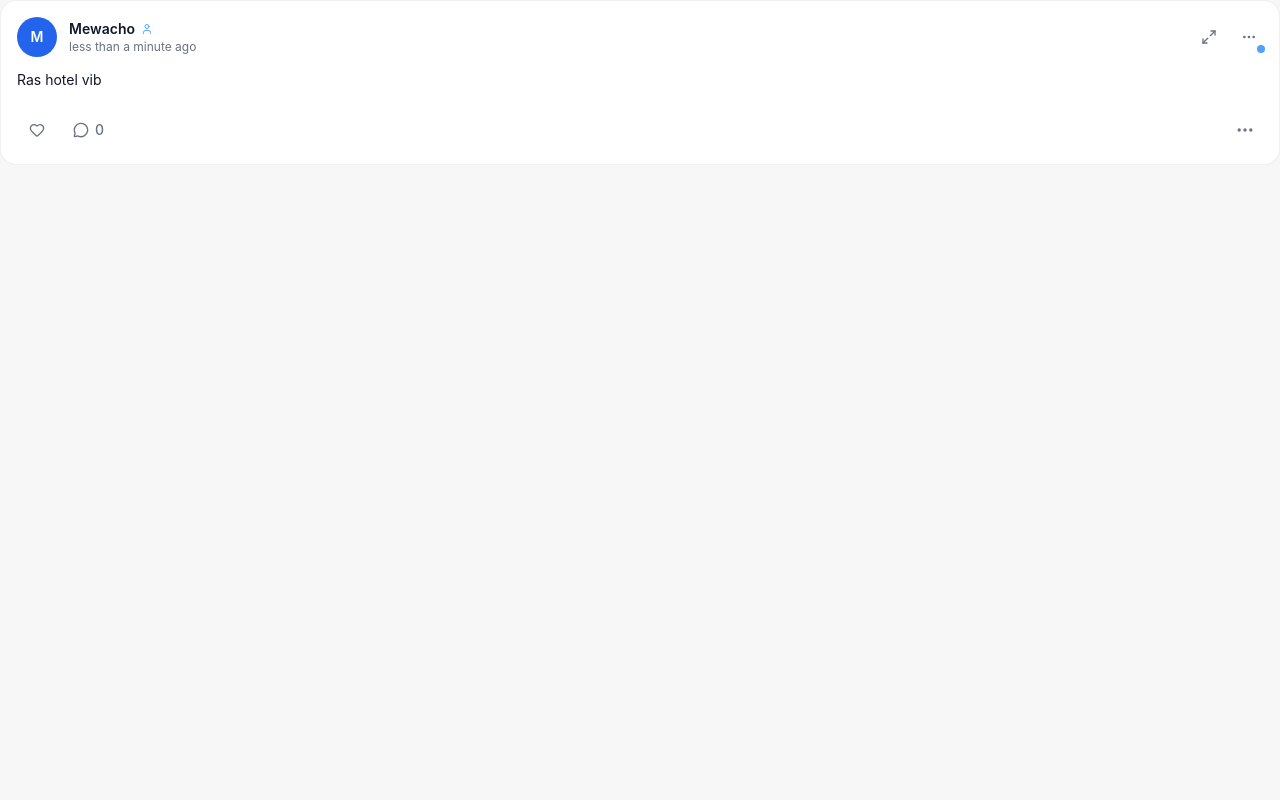
Scenario: PostCard owner actions › offers only Delete to an admin
This screenshot has width=1280, height=800.
Click the button named "More options for this post" at (1245, 130), box [1227, 108, 1263, 152]
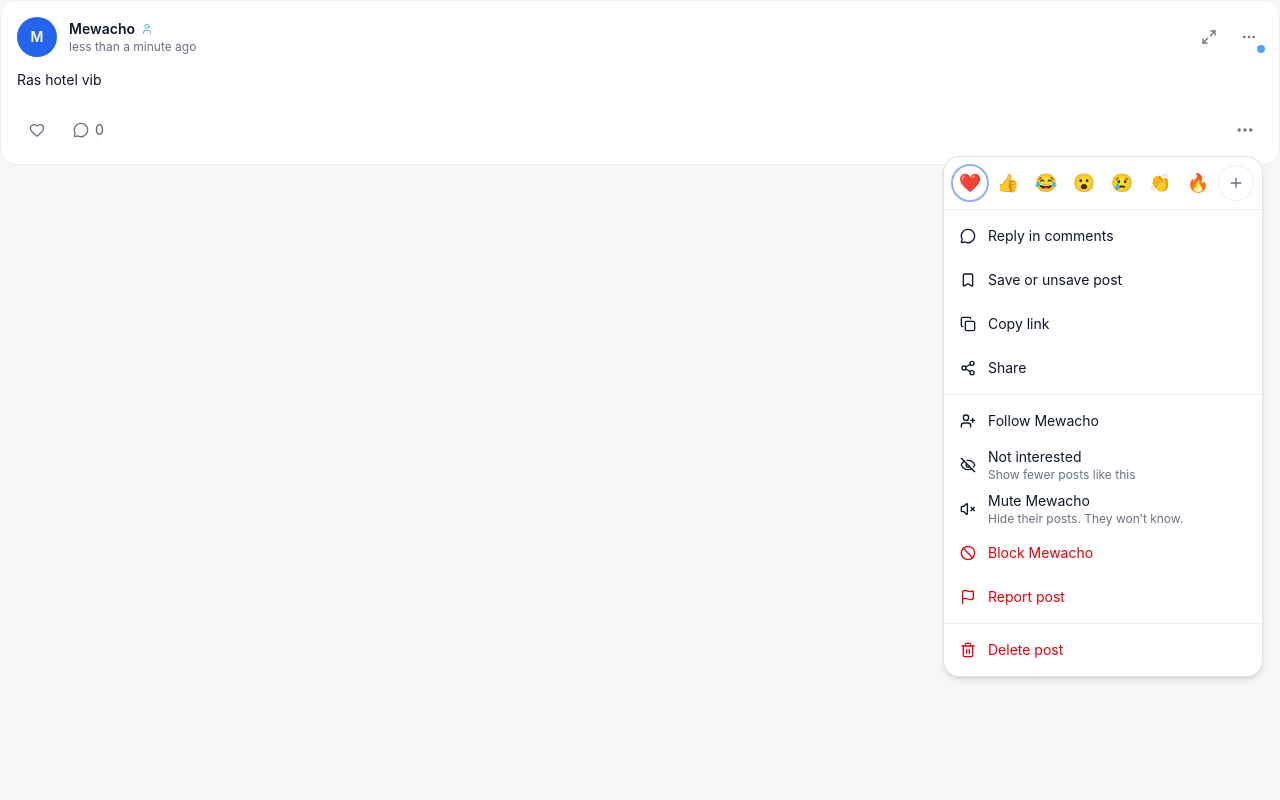
Expected: the menu item "Delete post" is shown, [944, 628, 1262, 672]
